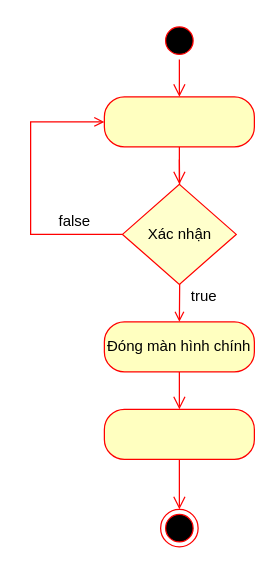
This 276x569 diagram has some shape labels left out. The centre of each missing label's shape, as x and y in pixels:
"Hiển thị màn hình đăng nhập" belongs at point (178, 433).
"Yêu cầu đăng xuất" belongs at point (178, 121).
